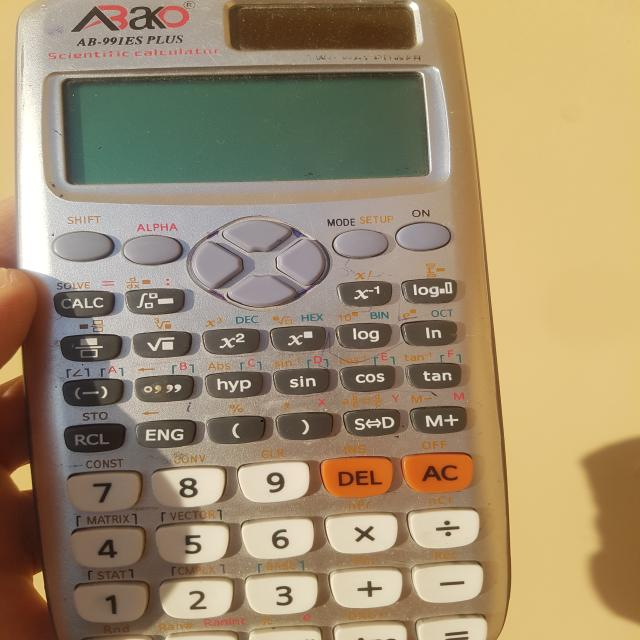electronic: (15, 0, 512, 639)
